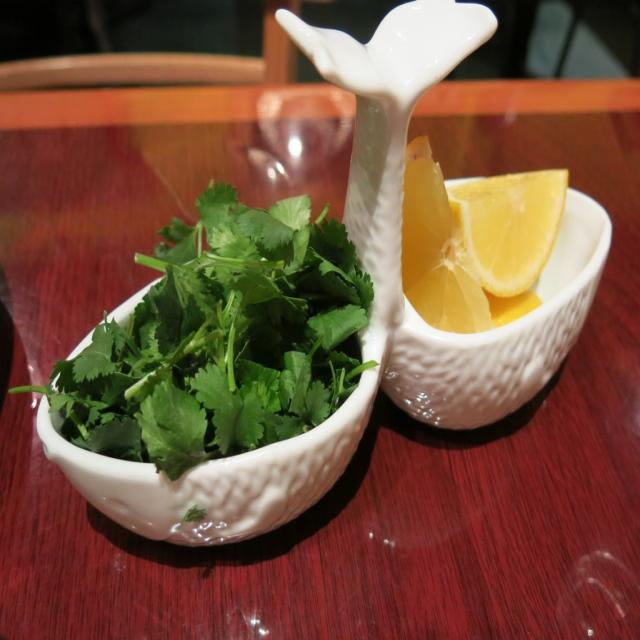Lemon: (457, 167, 571, 299), (405, 137, 449, 288)
